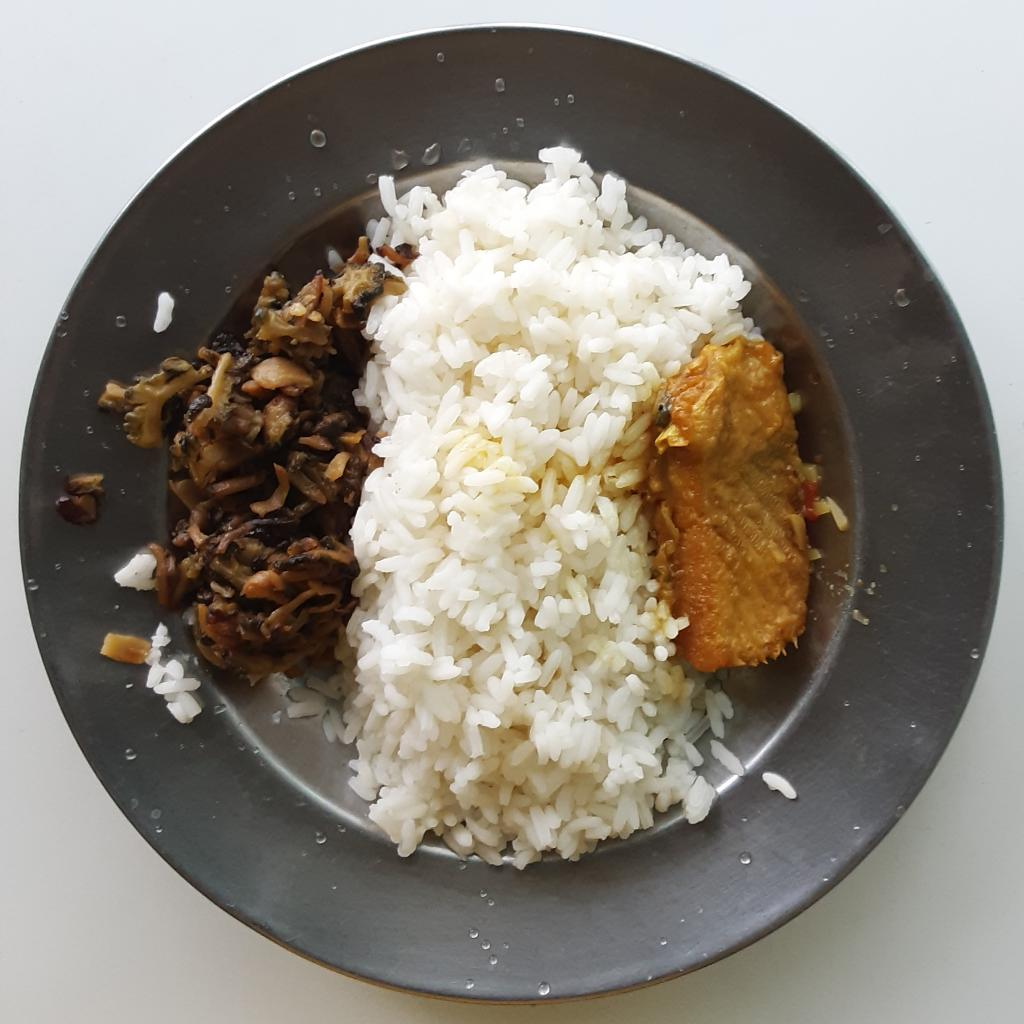fish: (647, 335, 848, 672)
korola-vaji: (162, 364, 366, 683), (99, 251, 376, 457)
rice: (283, 147, 796, 869)
